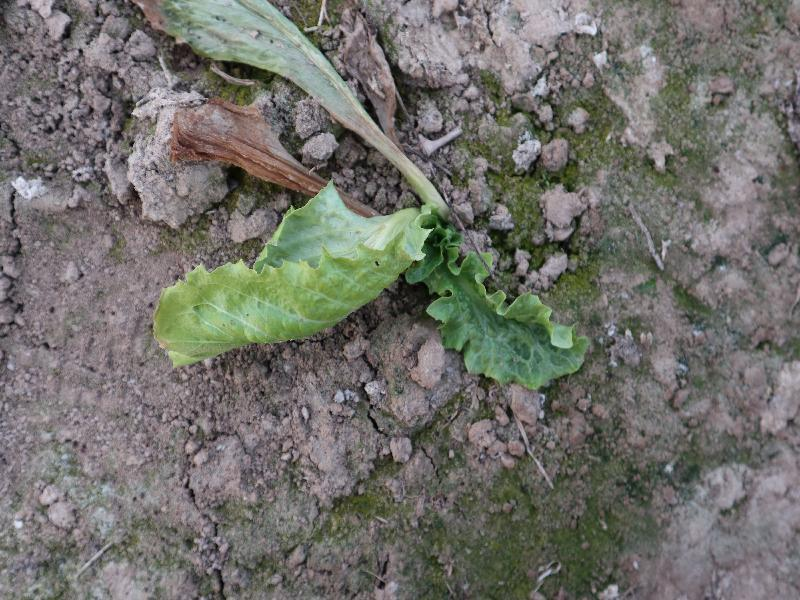lettuce: (152, 177, 590, 390)
